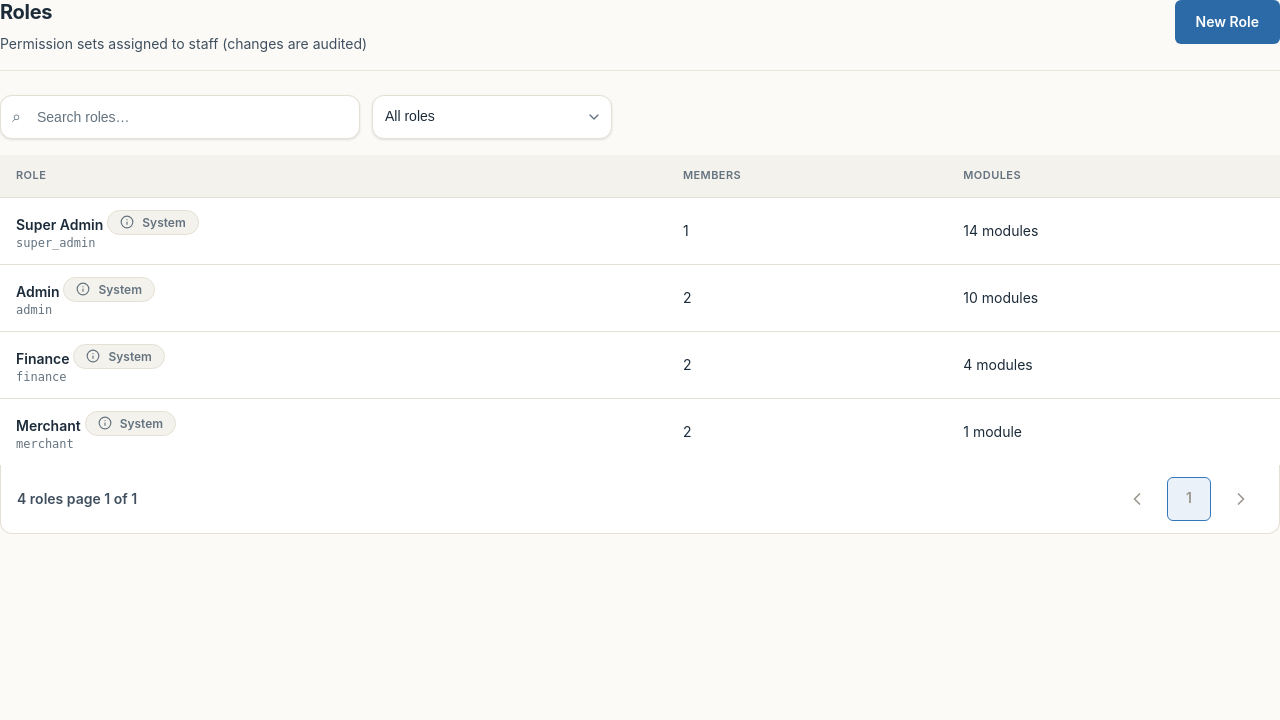
Scenario: RolesPage › opens the create dialog from the header action
Expected: the text "Super Admin" is shown, x1=16 y1=215 x2=103 y2=232
Step 1. Click the button "New Role" → (1227, 22), box x1=1175 y1=0 x2=1279 y2=44
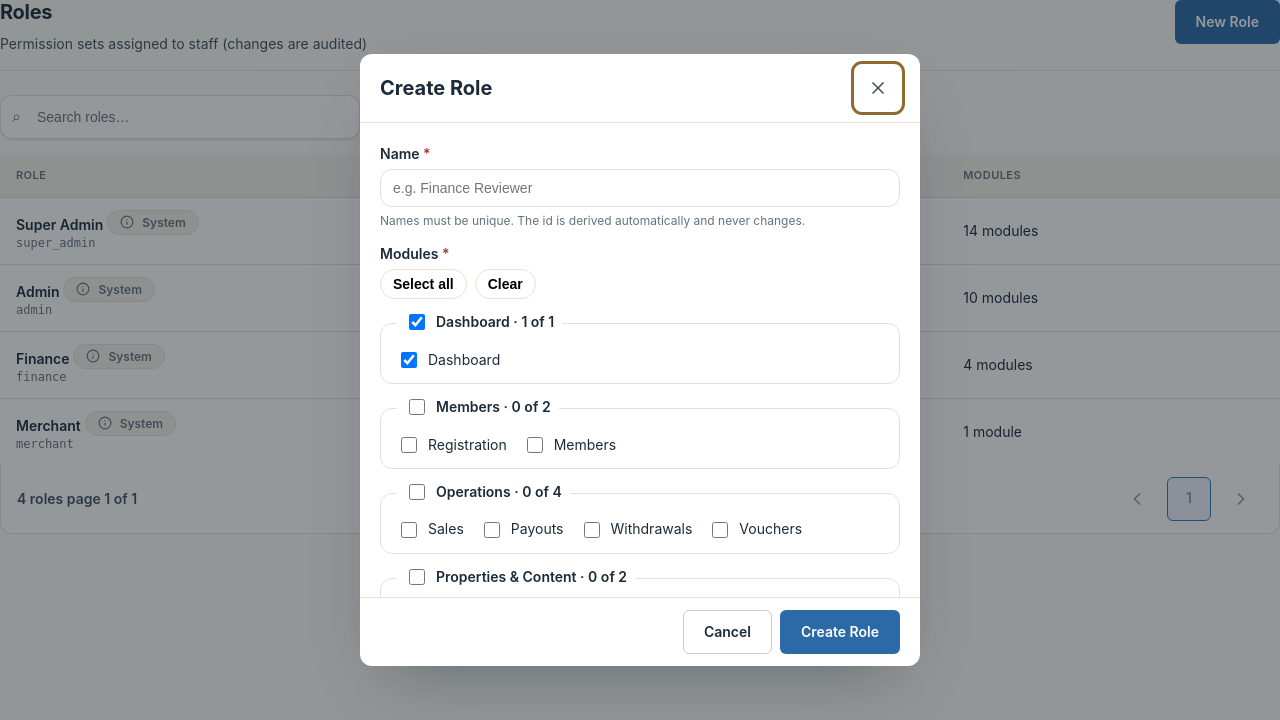
Expected: the heading "Create Role" is shown, x1=380 y1=72 x2=492 y2=104
